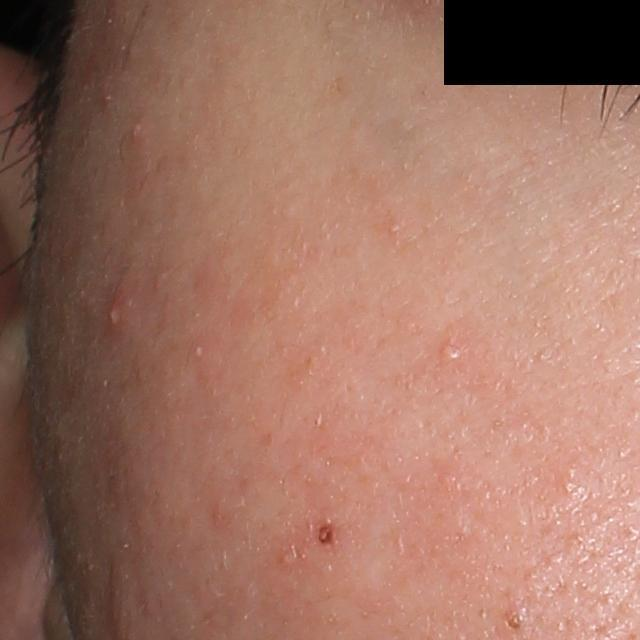comedo: (503, 608, 528, 633), (191, 340, 211, 359), (386, 221, 400, 235)
pustule: (100, 296, 126, 335)
